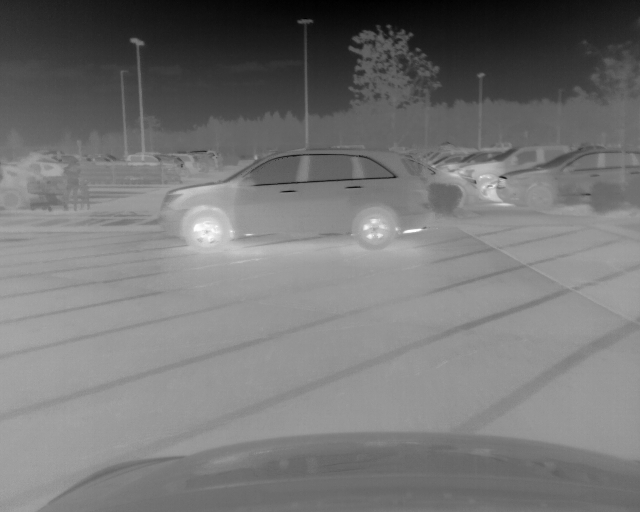car: (160, 147, 432, 251), (495, 145, 640, 213), (454, 143, 585, 202), (405, 157, 477, 215), (1, 166, 49, 210), (127, 152, 180, 182), (175, 153, 202, 177), (196, 150, 219, 174)
people: (61, 159, 80, 208), (76, 158, 93, 210)
